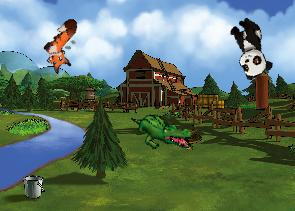crocodile: (131, 112, 192, 151)
fox: (34, 15, 94, 77)
panda: (224, 14, 275, 81)
